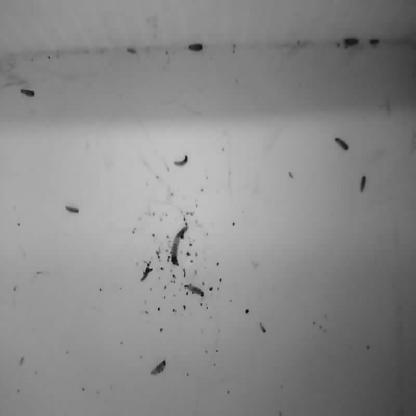PtecticusTenebrifer: (184, 282, 204, 297), (150, 358, 166, 376), (336, 135, 350, 152), (173, 153, 189, 167), (188, 43, 204, 52), (343, 37, 359, 46), (20, 88, 36, 97), (66, 204, 79, 214), (361, 175, 366, 195), (369, 38, 381, 45)
